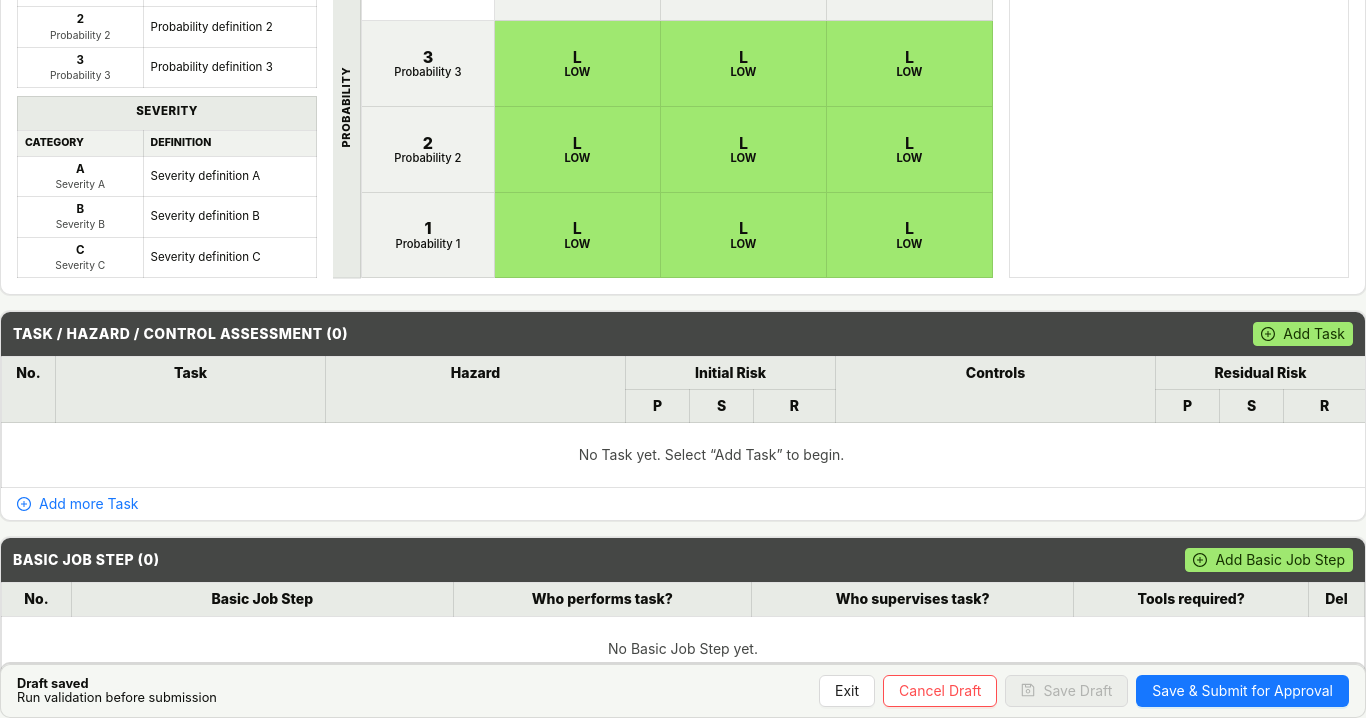
Scenario: JsaDraftEditor single-page worksheet › keeps exactly one Control editor paired with each Hazard
(page scrolled)
Click the button "Add Task".
click(1303, 334)  # box left=1253, top=322, right=1353, bottom=346
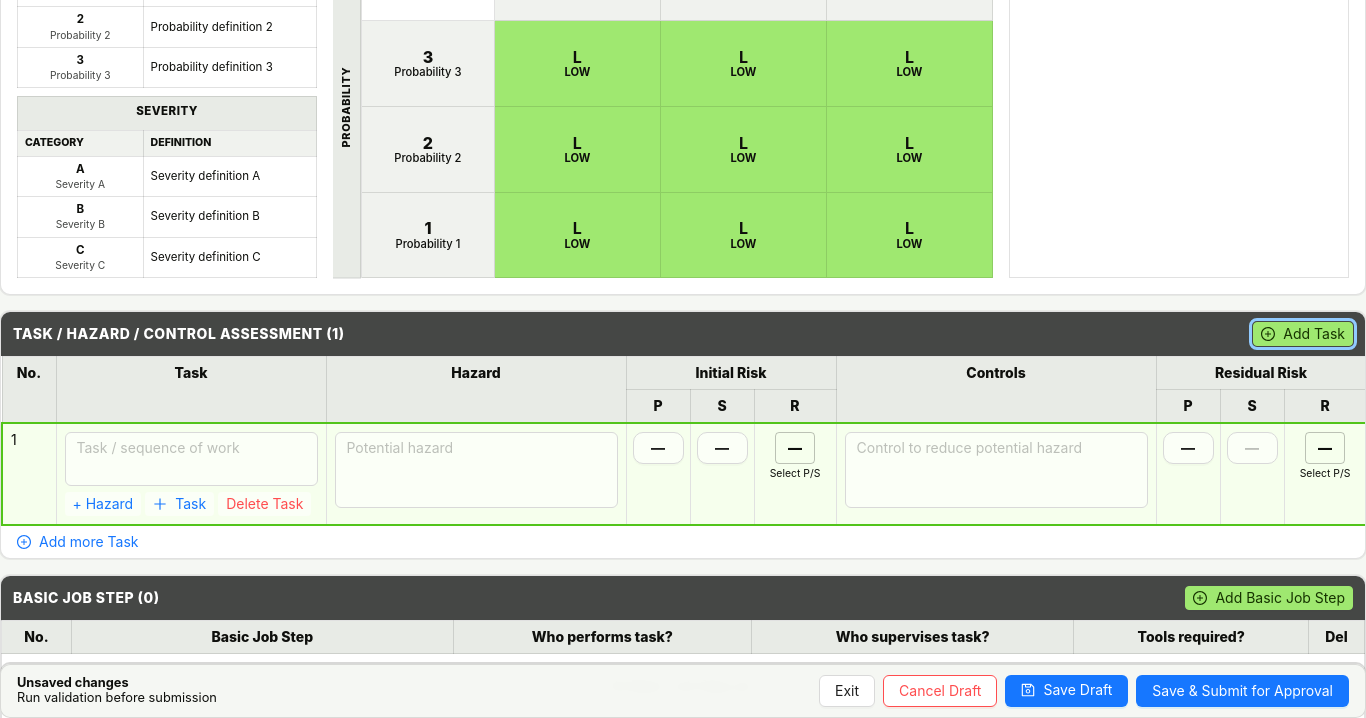
Result: the number of text boxes labelled "Hazard control" is 1 at left=844, top=432, right=1148, bottom=508
Click the button "+ Hazard".
click(103, 504)  # box left=64, top=492, right=141, bottom=516
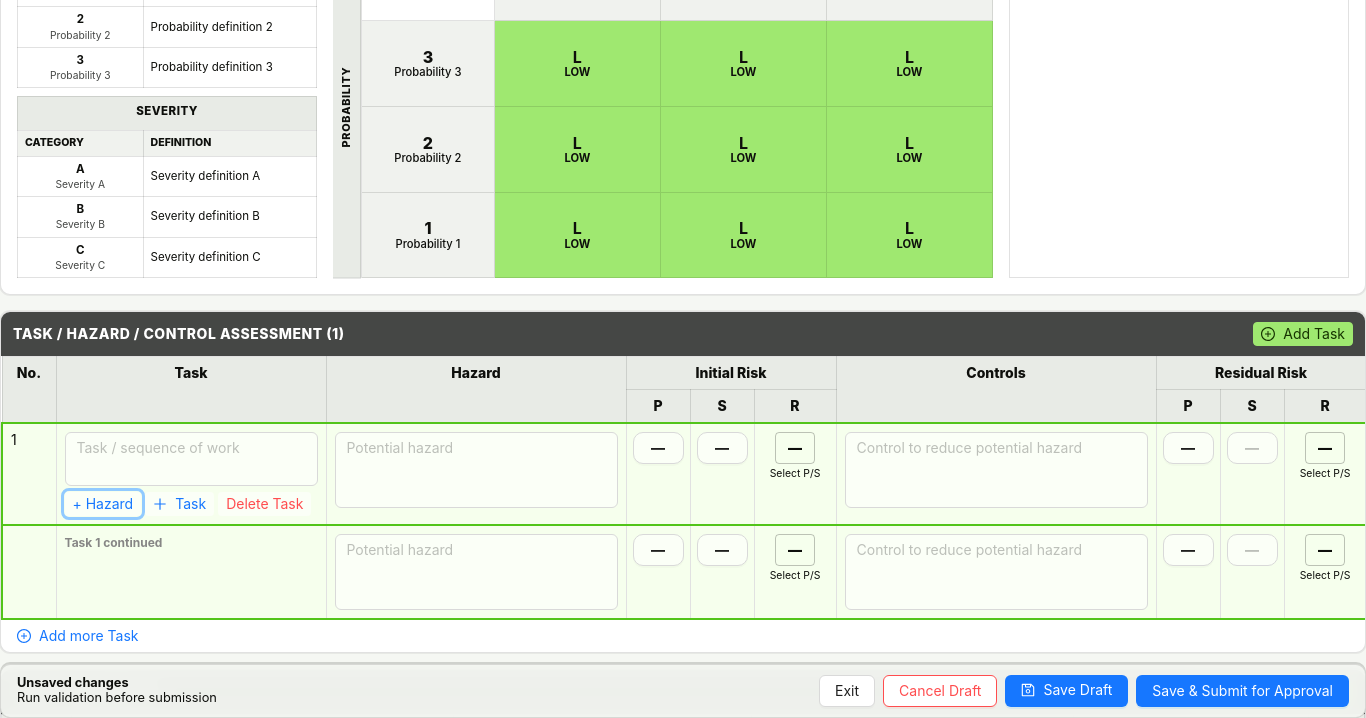
Result: the number of text boxes labelled "Hazard control" is 2 at left=844, top=432, right=1148, bottom=508; left=844, top=534, right=1148, bottom=610
